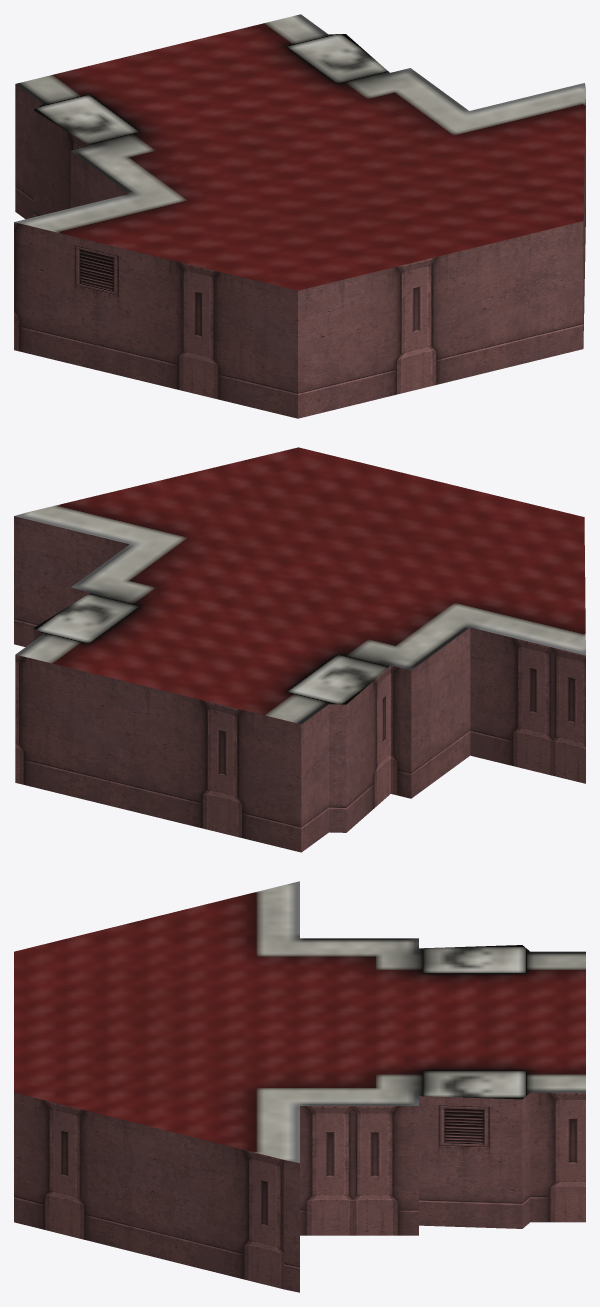
Rendered from hardened_roof29.glb.
3 renders of one model, top to bottom at view 1: azimuth 30°, elevation 25°; view 2: azimuth 150°, elevation 25°; view 3: azimuth 270°, elevation 25°, orthographic.
Visible parts, largest first — view 1: buildings/saxarba/hard/hardened_roof29; view 2: buildings/saxarba/hard/hardened_roof29; view 3: buildings/saxarba/hard/hardened_roof29.
Part boxes in pixels (x1,y1,x2,y2): buildings/saxarba/hard/hardened_roof29: (14,14,585,418); buildings/saxarba/hard/hardened_roof29: (14,447,585,852); buildings/saxarba/hard/hardened_roof29: (14,881,585,1292).
Size of the model in its own units: 84 by 18 by 72.
